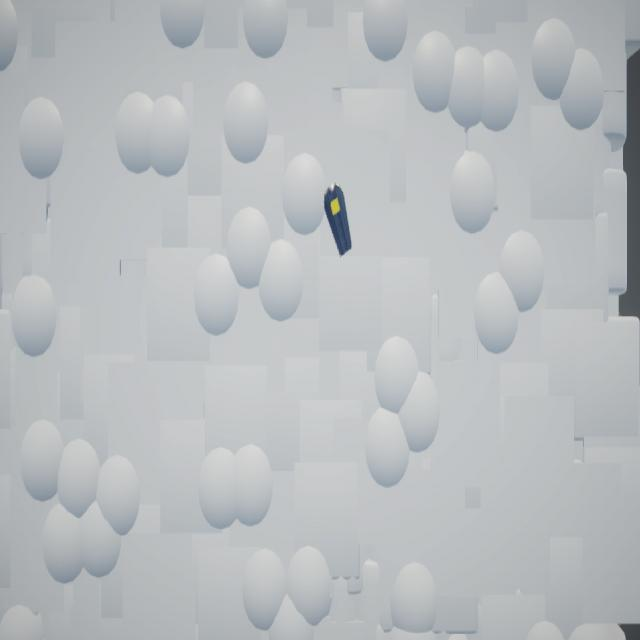handle_folk: (325, 185, 353, 258)
